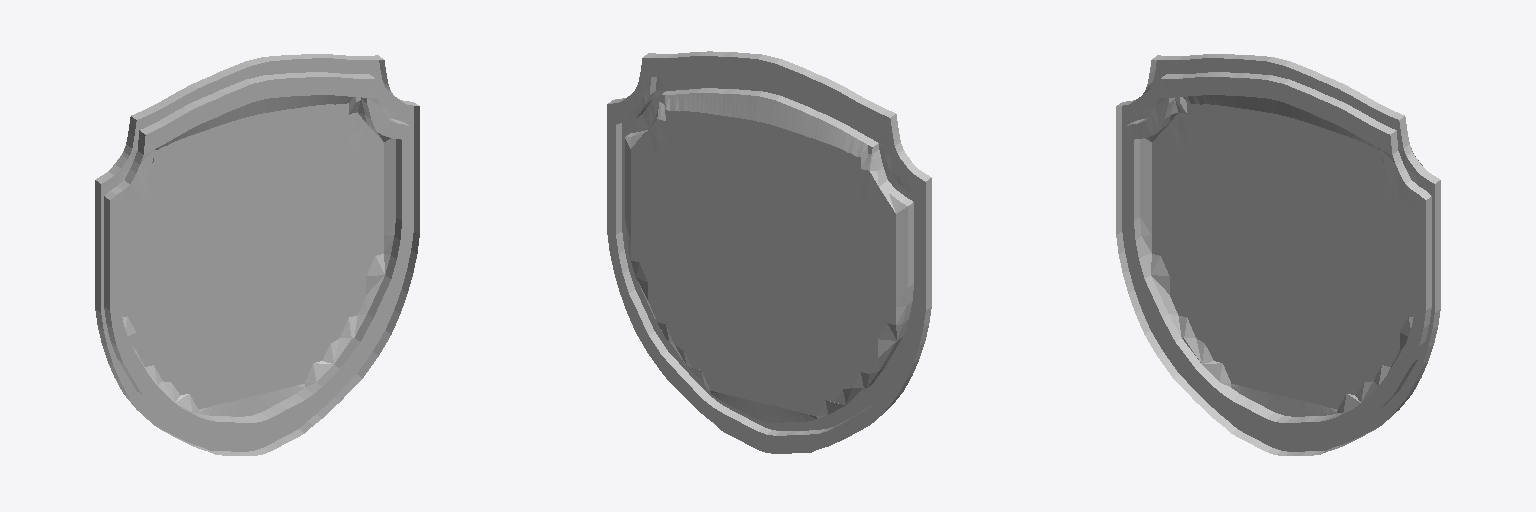
File: sheildPowerUp_pickup.obj
3 views of the same model, side by side, from view 1: azimuth 30°, elevation 25°; view 2: azimuth 150°, elevation 25°; view 3: azimuth 330°, elevation 25° (orthographic).
Visible parts, largest first — view 1: Cube.002; view 2: Cube.002; view 3: Cube.002.
Boxes of the visible parts, box(x1,y1,x2,y2) form: Cube.002: box(95, 54, 419, 455); Cube.002: box(607, 51, 931, 453); Cube.002: box(1116, 54, 1440, 455).
Size of the model in its own units: 1.77 by 2.08 by 0.0912.